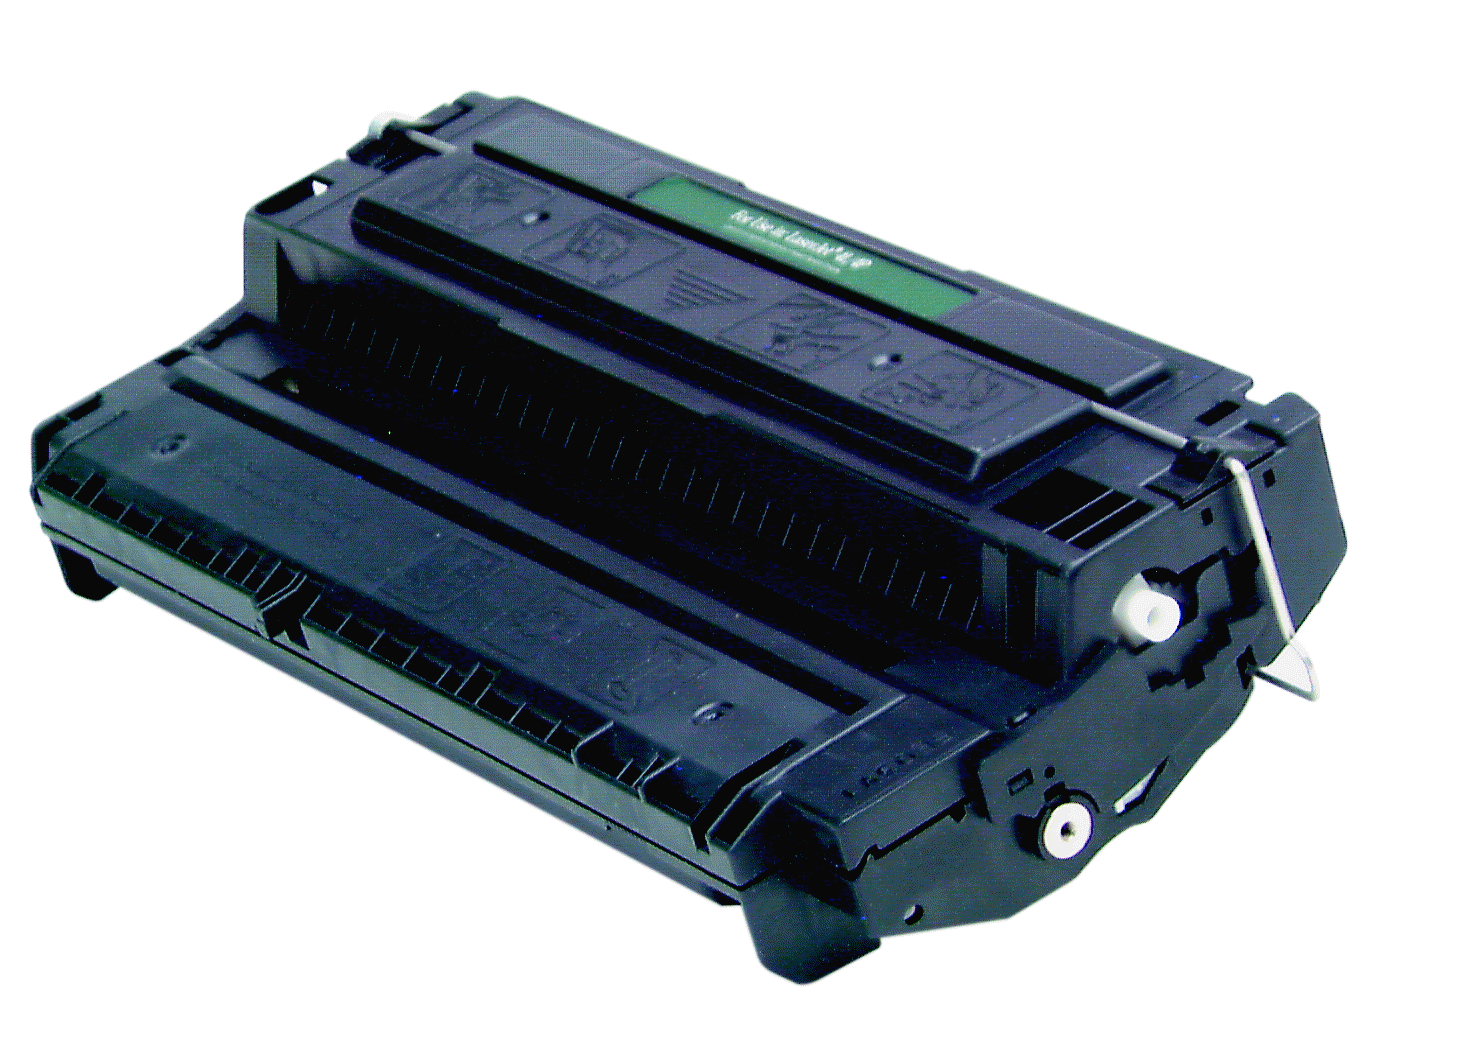Nonrec_Other: (74, 99, 1387, 1008)
